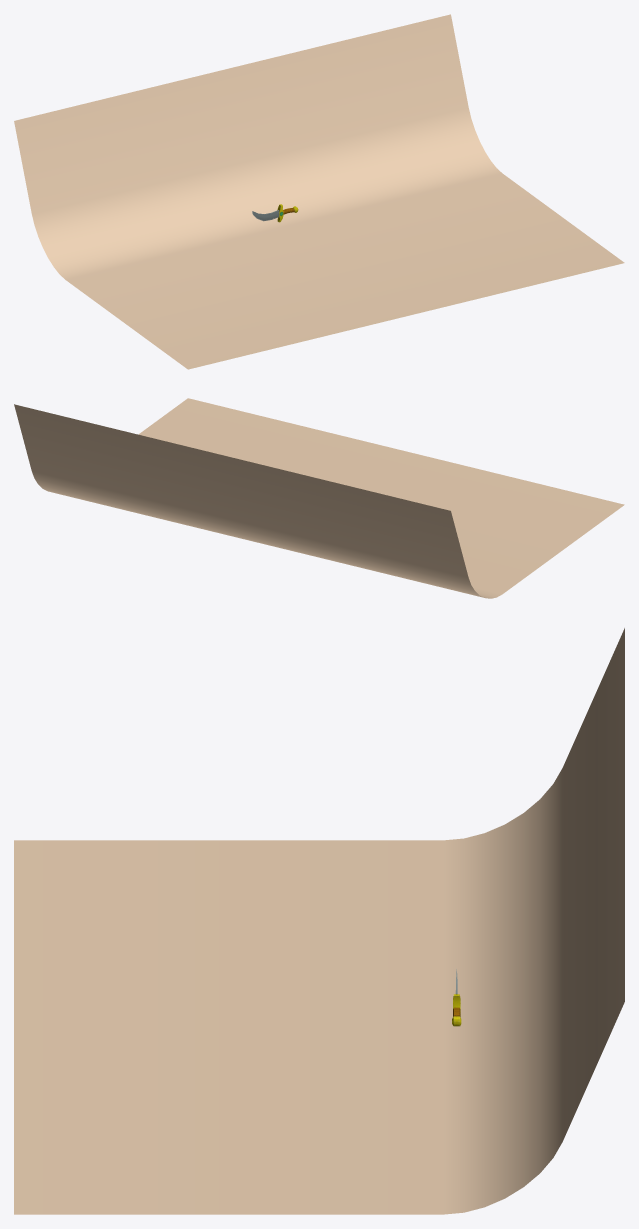
The model's file is dagger.fbx.
The picture shows the model from 3 angles, top to bottom: view 1: azimuth 30°, elevation 25°; view 2: azimuth 150°, elevation 25°; view 3: azimuth 270°, elevation 25°; orthographic projection. The views are drawn at different scales.
Visible parts, largest first — view 1: Plane; view 2: Plane; view 3: Plane.
Part boxes in pixels (x1=…): Plane: x1=14, y1=14, x2=624, y2=369; Plane: x1=14, y1=398, x2=624, y2=598; Plane: x1=14, y1=628, x2=624, y2=1214.
Bounding box in the file's own units: 200 × 53.05 × 138.
